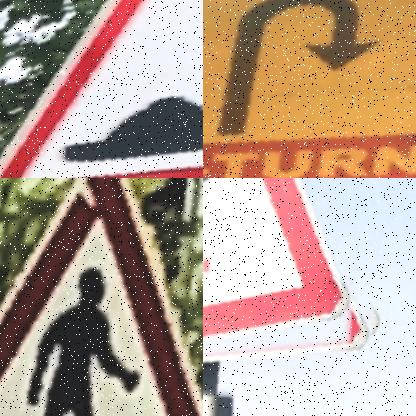Right bend: (203, 178, 357, 347)
Speed Breaker Ahead: (0, 0, 203, 178)
U-Turn: (203, 0, 416, 178)
